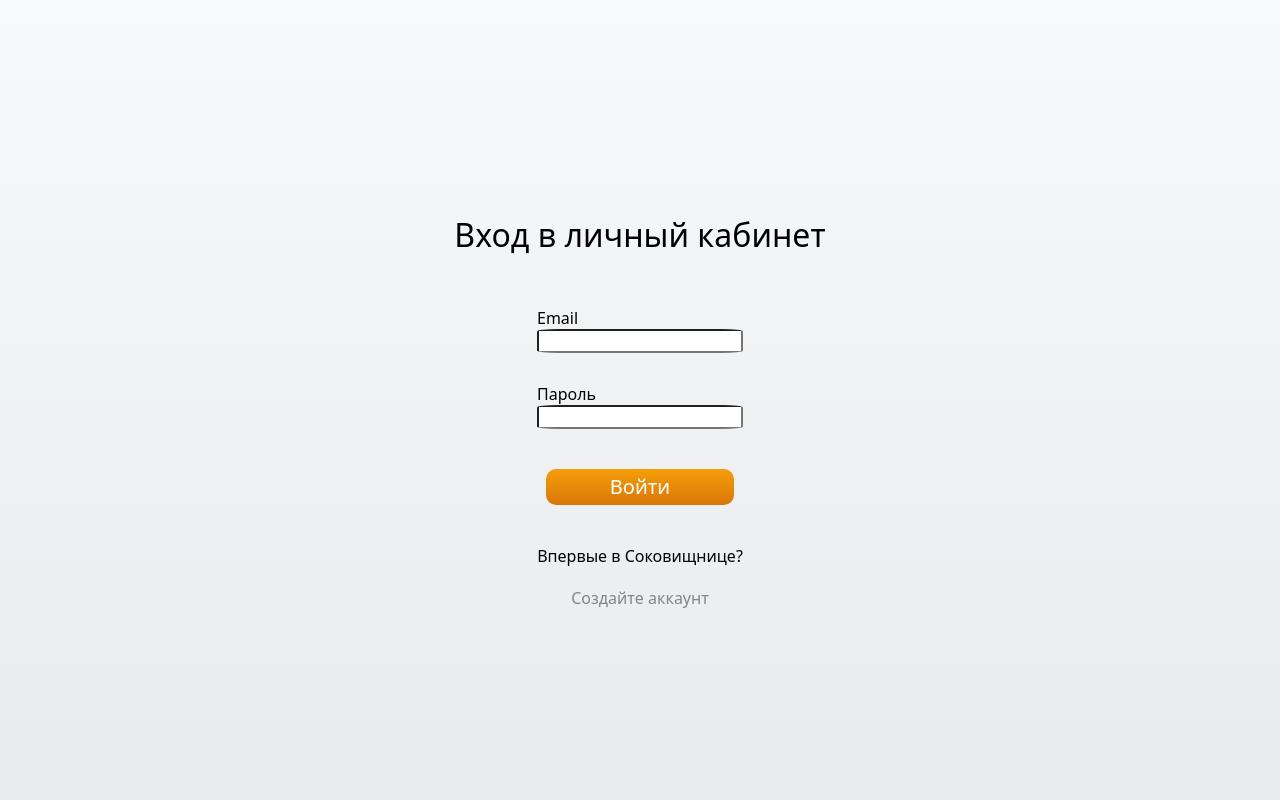
it: LoginPage › shows validation error when password is empty
Type "a@b.ru" into the field labelled "Email" at (640, 341), box [537,329,743,353]
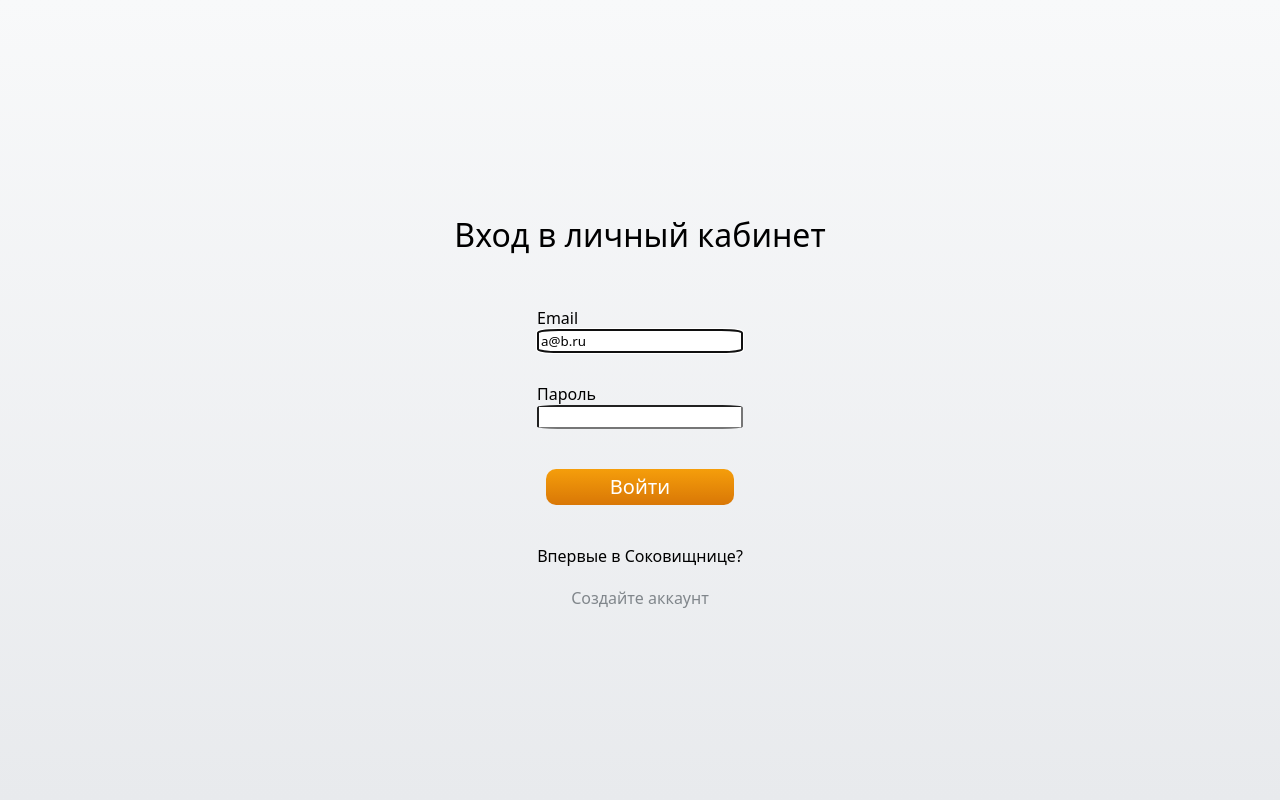
Click the button "Войти" at (640, 487), box [546,469,734,505]
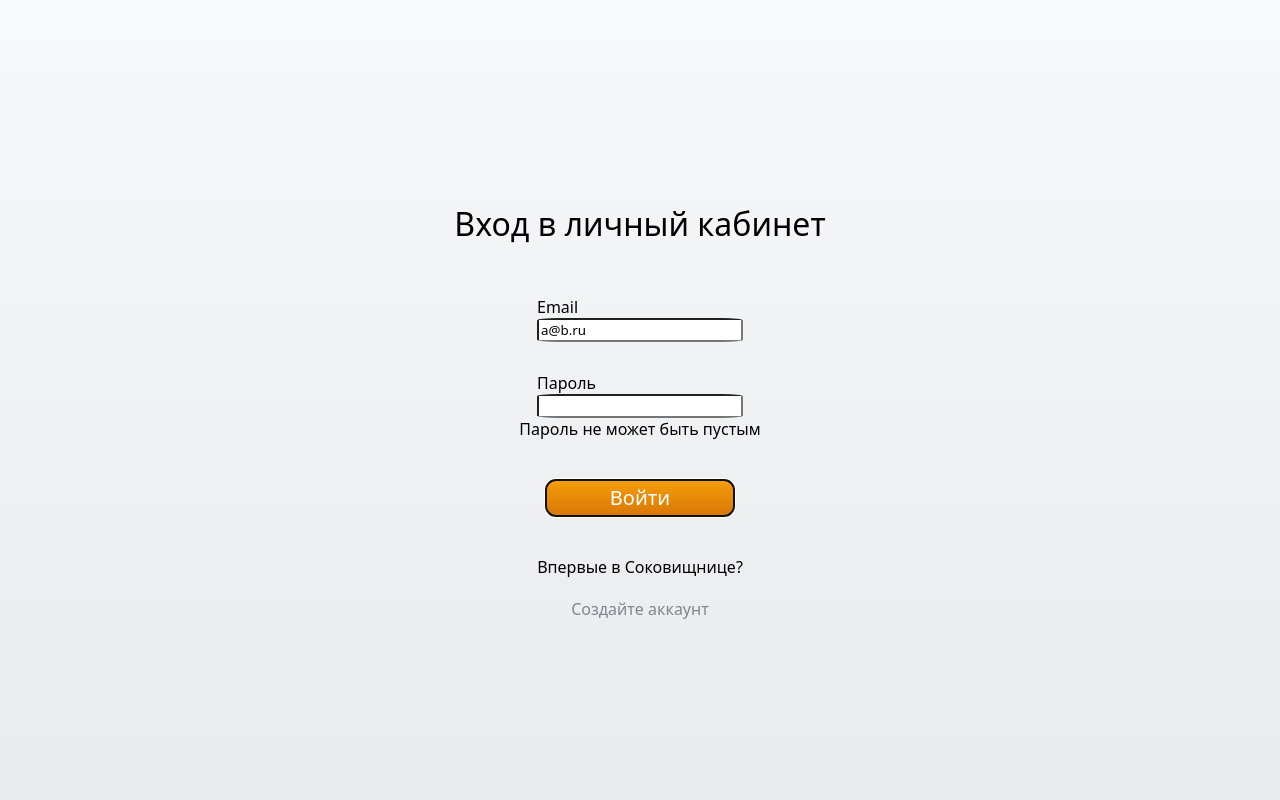
Now the text "Пароль не может быть пустым" is shown, box [519,418,761,440]
